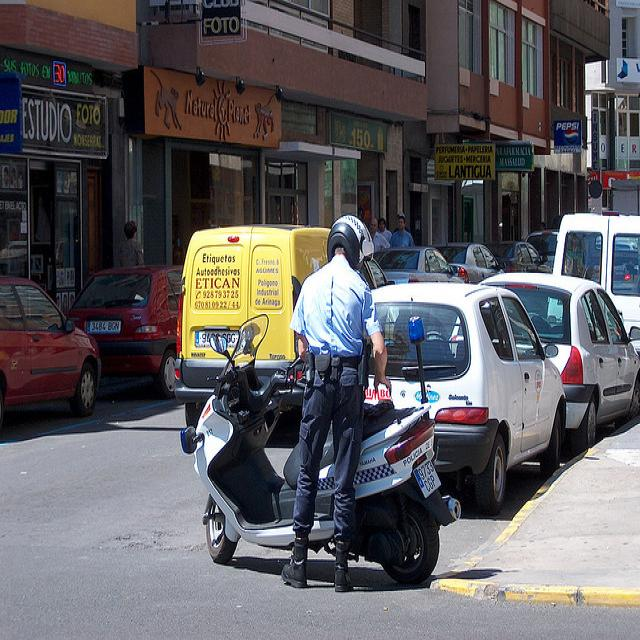motor: (182, 352, 456, 579)
